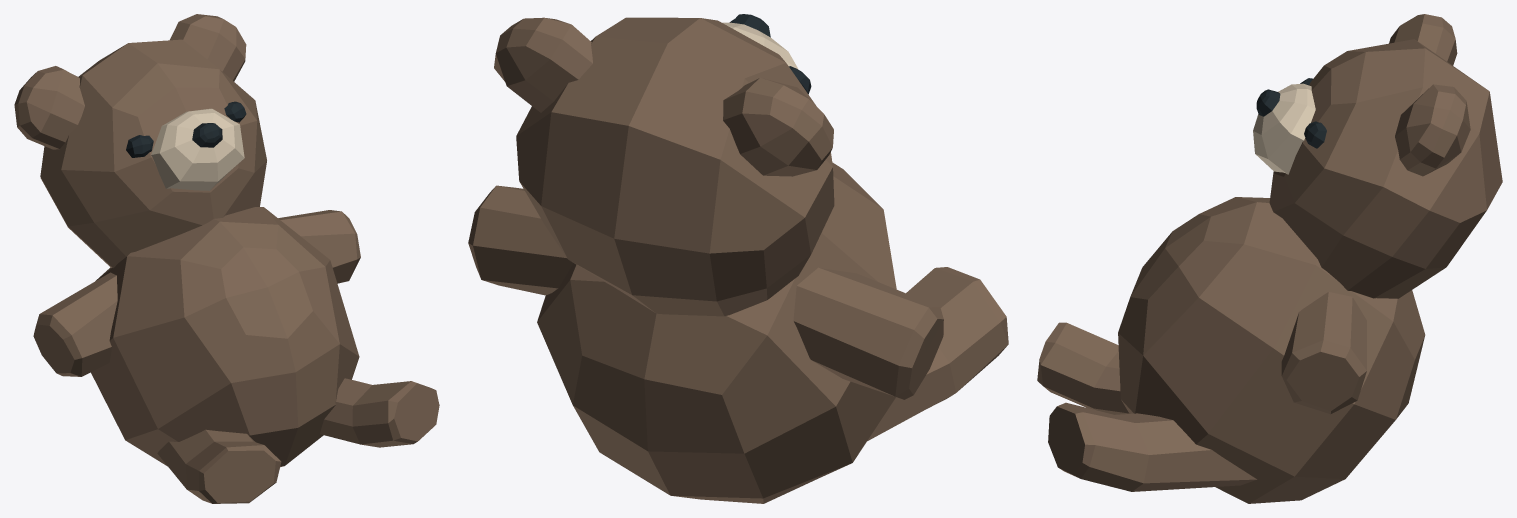
The model's file is Toy_Bear.fbx.
3 views of the same model, side by side, from view 1: azimuth 30°, elevation 25°; view 2: azimuth 150°, elevation 25°; view 3: azimuth 270°, elevation 25° (orthographic). The views are drawn at different scales.
Parts seen in each view (by area): view 1: Toy_Bear; view 2: Toy_Bear; view 3: Toy_Bear.
Part boxes in pixels (box(x1,y1,x2,y2)): Toy_Bear: box(14, 14, 439, 503); Toy_Bear: box(468, 14, 1008, 503); Toy_Bear: box(1037, 14, 1502, 503).
Size of the model in its own units: 31.58 by 36.17 by 36.82.
